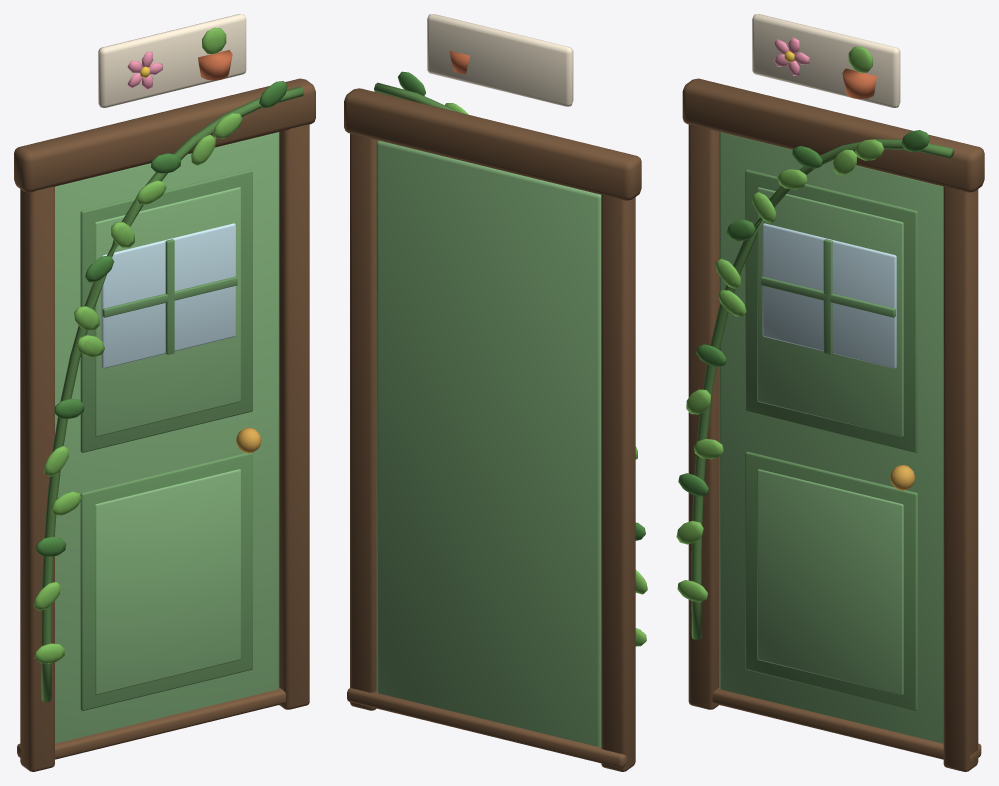
Rendered from garden-door.glb.
3 views of the same model, side by side, from view 1: azimuth 30°, elevation 25°; view 2: azimuth 150°, elevation 25°; view 3: azimuth 330°, elevation 25° (orthographic).
Parts seen in each view (by area): view 1: door, glass, vine, sign; view 2: door, sign, vine; view 3: door, glass, vine, sign.
Boxes of the visible parts, left/top/right/bottom form: door: left=14, top=78, right=315, bottom=771; glass: left=101, top=223, right=237, bottom=368; vine: left=34, top=81, right=303, bottom=701; sign: left=98, top=14, right=246, bottom=107; door: left=344, top=88, right=641, bottom=771; sign: left=427, top=14, right=573, bottom=106; vine: left=374, top=71, right=647, bottom=646; door: left=682, top=78, right=984, bottom=771; glass: left=761, top=223, right=896, bottom=368; vine: left=676, top=130, right=954, bottom=639; sign: left=752, top=14, right=900, bottom=107.
Bounding box in the file's own units: 0.92 × 2.13 × 0.16.
